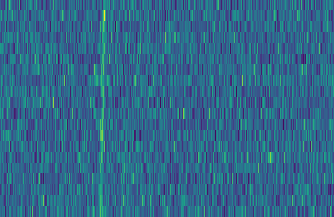signal: (93, 0, 106, 217)
